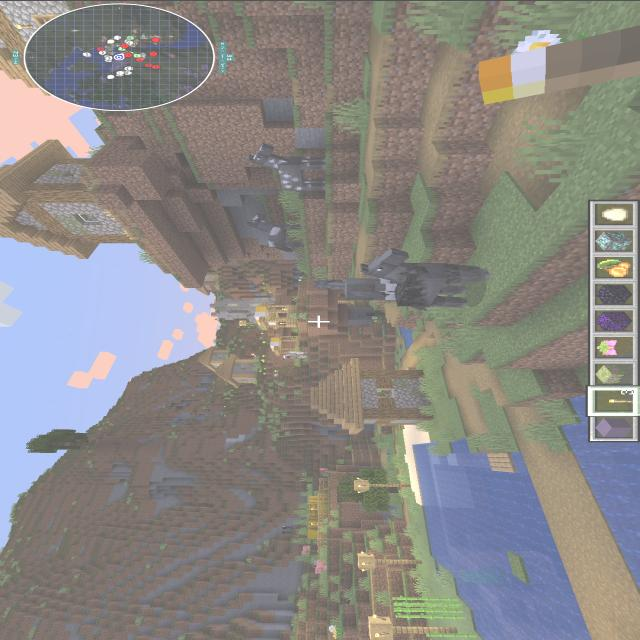cow: (278, 523, 296, 535)
iron golem: (282, 348, 314, 361)
pig: (312, 556, 332, 574), (298, 544, 312, 556), (316, 464, 331, 474)
